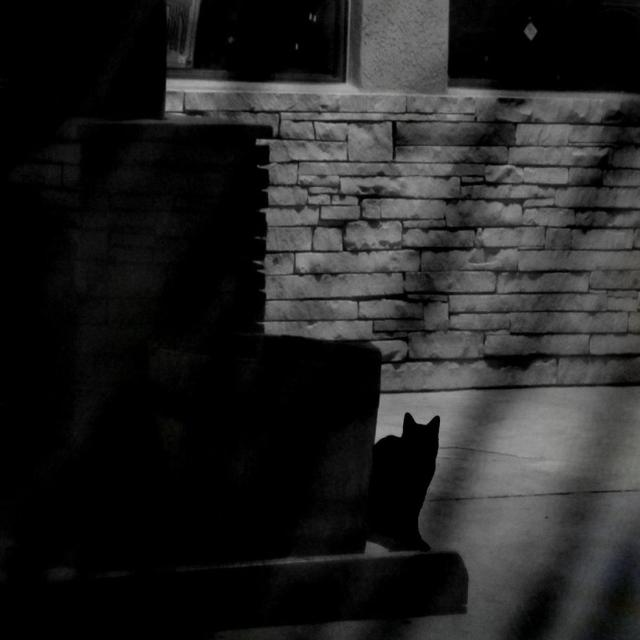Cat: (375, 399, 446, 560)
